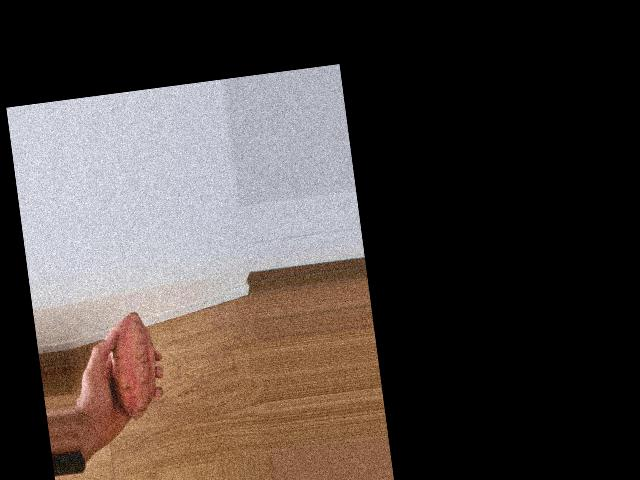sweet_potato: (104, 309, 160, 425)
